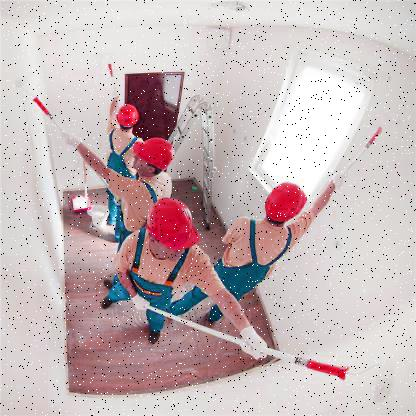Helmet: (132, 191, 202, 268), (121, 135, 180, 183), (263, 178, 309, 236), (107, 100, 144, 136)
